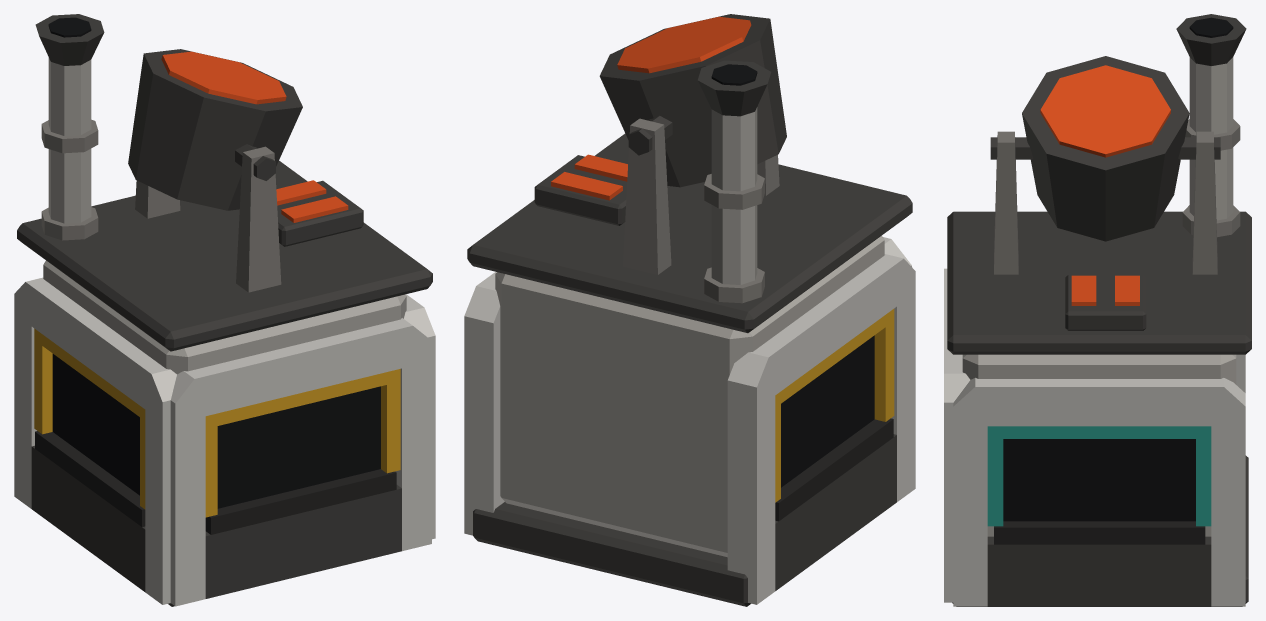
Rendered from alloy.fbx.
3 renders of one model, left to right at view 1: azimuth 30°, elevation 25°; view 2: azimuth 150°, elevation 25°; view 3: azimuth 270°, elevation 25°, orthographic. The views are drawn at different scales.
Visible parts, largest first — view 1: alloy; view 2: alloy; view 3: alloy.
Part boxes in pixels (x1,y1,x2,y2): alloy: (14, 14, 435, 606); alloy: (464, 14, 915, 606); alloy: (944, 14, 1251, 606).
Bounding box in the file's own units: 3 × 5.03 × 2.97.
